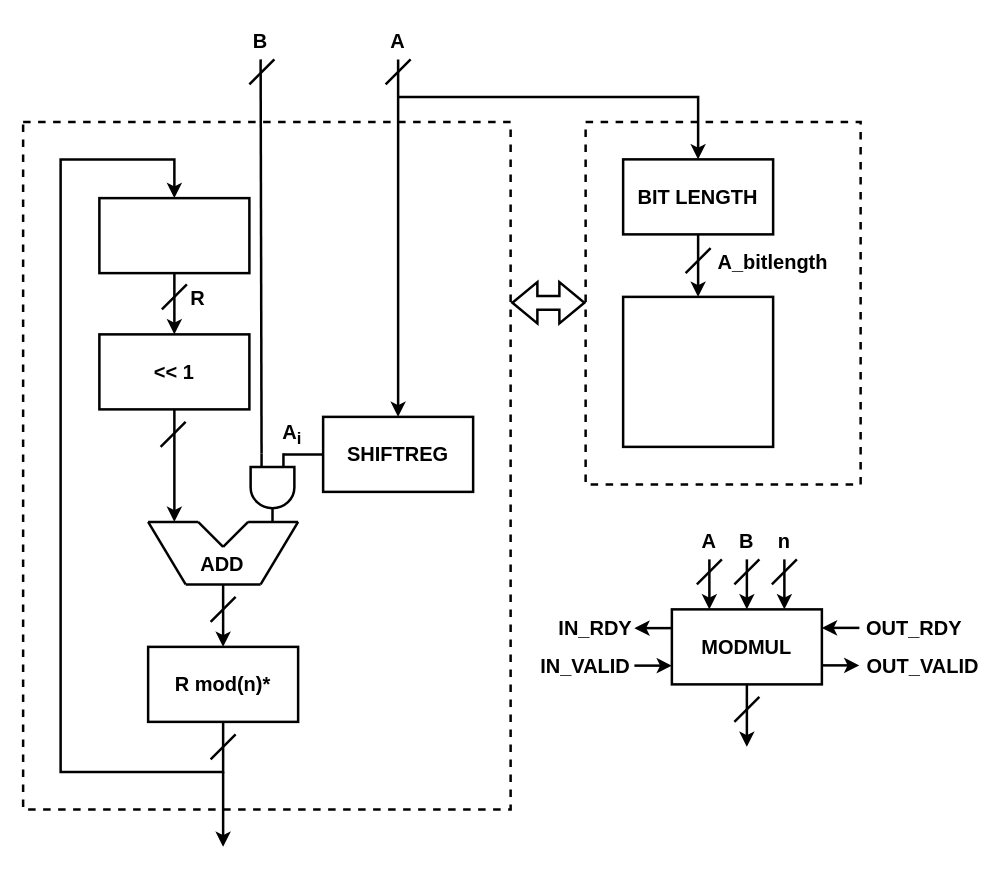
This 1006x879 diagram has some shape labels left out. The shapes that lost their labels are listed below. From the top down, each one's box as (x1, y1, x2, y2) in pixels, then its label:
(98, 196, 250, 274): REGISTER
(621, 295, 774, 448): CTRL
